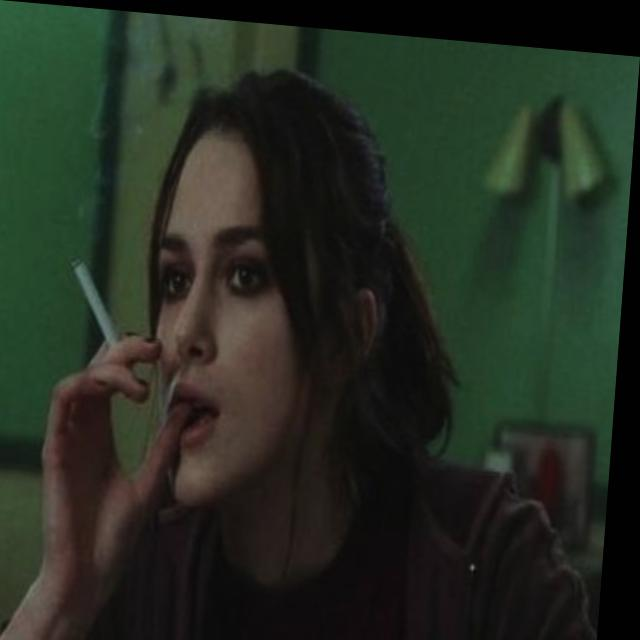cigarette: (70, 255, 130, 352)
